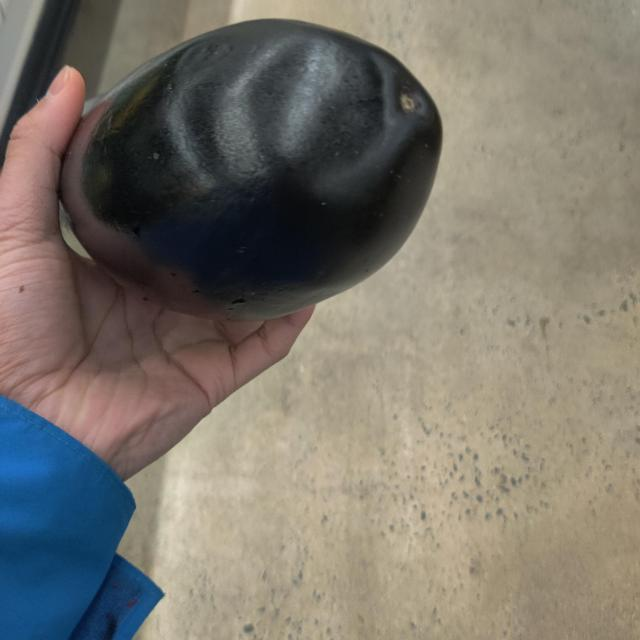Eggplant: (9, 17, 445, 309)
